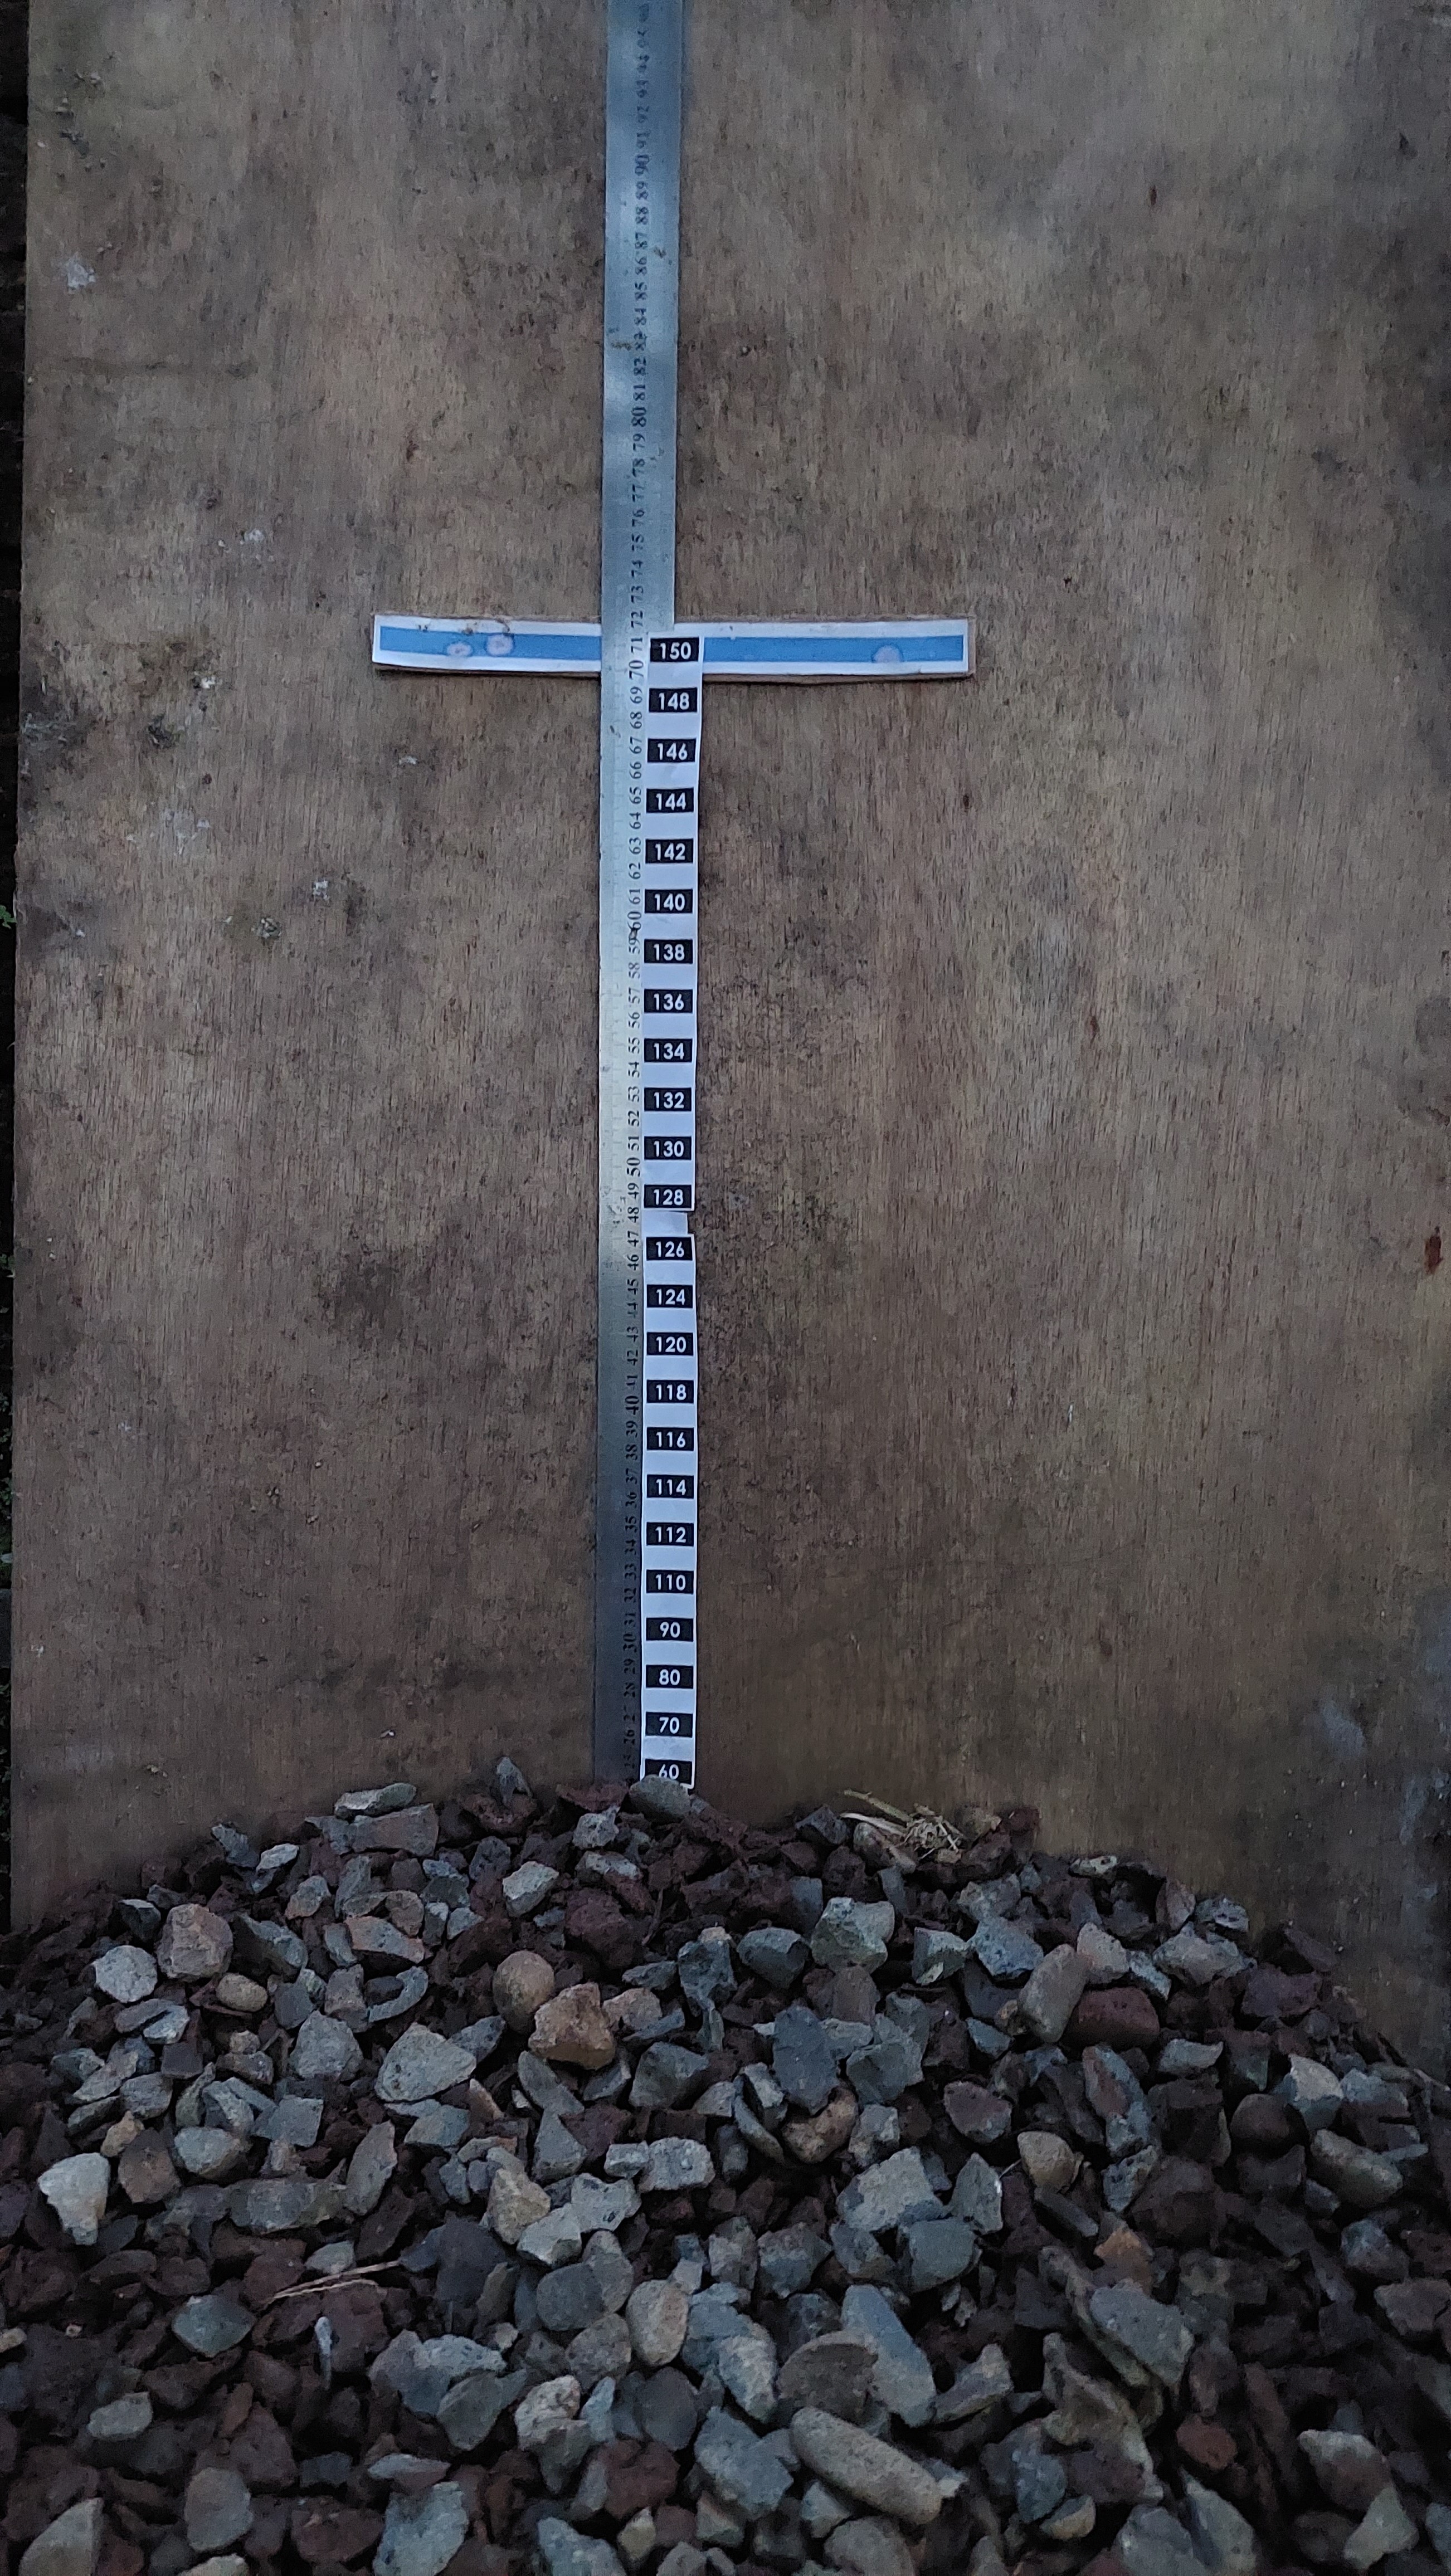kotak_2x1: (644, 1279, 694, 1311), (644, 1424, 695, 1454), (644, 1614, 694, 1644), (642, 987, 694, 1016), (646, 1709, 694, 1739), (649, 637, 701, 663), (642, 1182, 694, 1208), (644, 1237, 695, 1263), (644, 1329, 695, 1355), (642, 1522, 694, 1548), (648, 1472, 695, 1500), (646, 1566, 694, 1594), (648, 738, 697, 764), (644, 938, 694, 964), (644, 1037, 694, 1063), (644, 1663, 694, 1690), (644, 1378, 695, 1403), (644, 888, 692, 915), (649, 688, 699, 713), (644, 839, 694, 863), (646, 789, 694, 814), (644, 1086, 692, 1111), (642, 1136, 694, 1159)
mal_biru_150: (375, 625, 966, 678)
